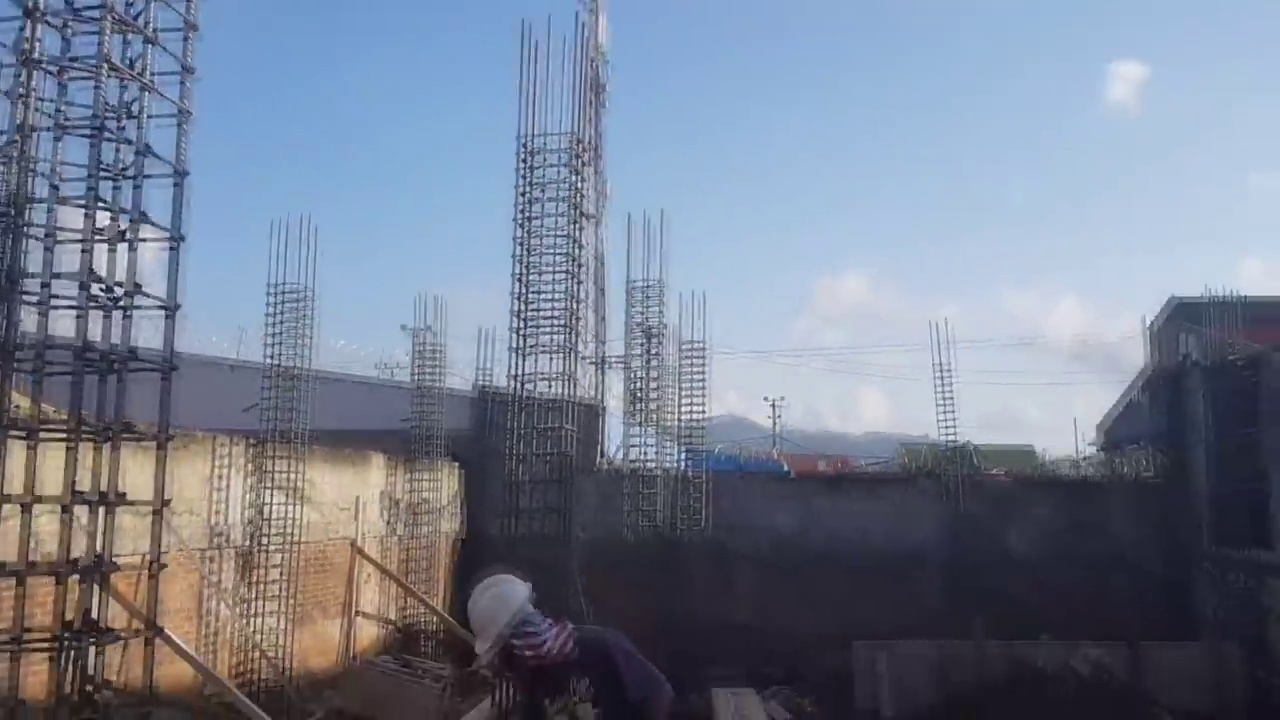helmet: (465, 566, 532, 662)
helmet-on: (458, 563, 585, 681)
person: (452, 554, 674, 720)
